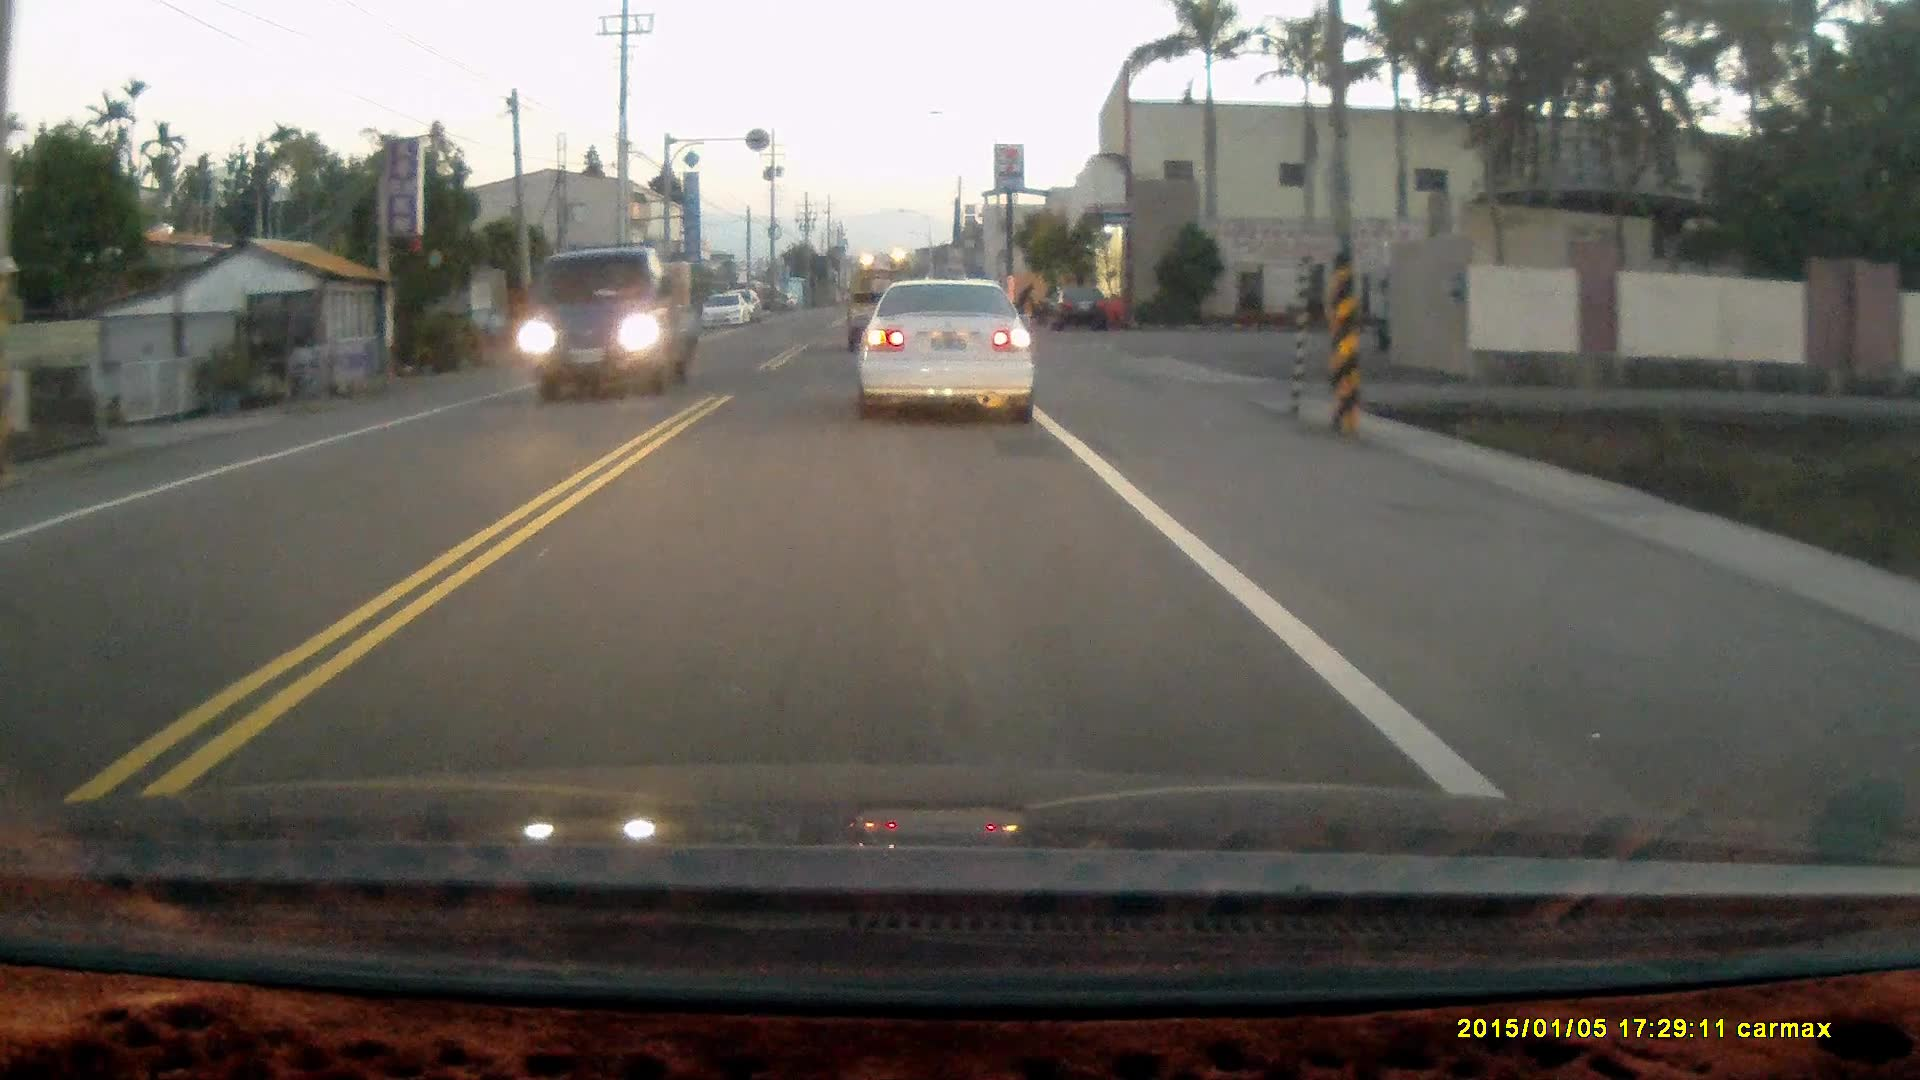rider: (1006, 281, 1044, 326)
vehicle: (862, 274, 1039, 430), (523, 251, 704, 400), (846, 273, 922, 361), (1047, 284, 1110, 336), (699, 292, 752, 332)
